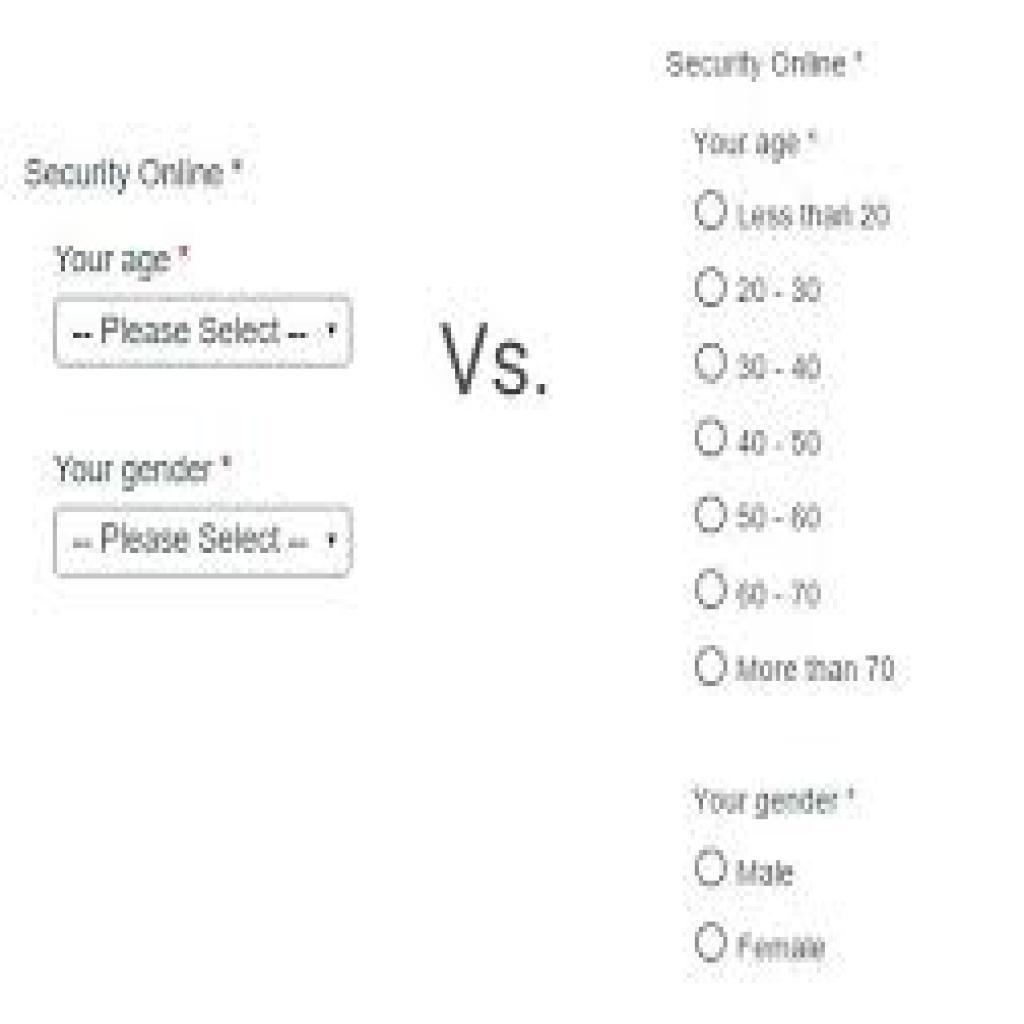dropdown: (54, 296, 355, 368), (56, 507, 353, 574)
label: (653, 35, 870, 93), (426, 316, 559, 404), (12, 154, 254, 197), (54, 443, 255, 493), (682, 782, 861, 825), (736, 194, 891, 238), (46, 243, 204, 286), (736, 652, 898, 693), (687, 123, 823, 165), (734, 926, 829, 968), (730, 495, 825, 535), (737, 577, 823, 618), (737, 346, 825, 385), (736, 422, 826, 460), (736, 271, 827, 308), (735, 857, 800, 891)
radio: (691, 339, 733, 389), (690, 413, 731, 463), (692, 917, 731, 966), (692, 566, 731, 613), (692, 644, 731, 690), (696, 845, 730, 895), (693, 491, 729, 538), (692, 192, 731, 234), (695, 265, 730, 311)
